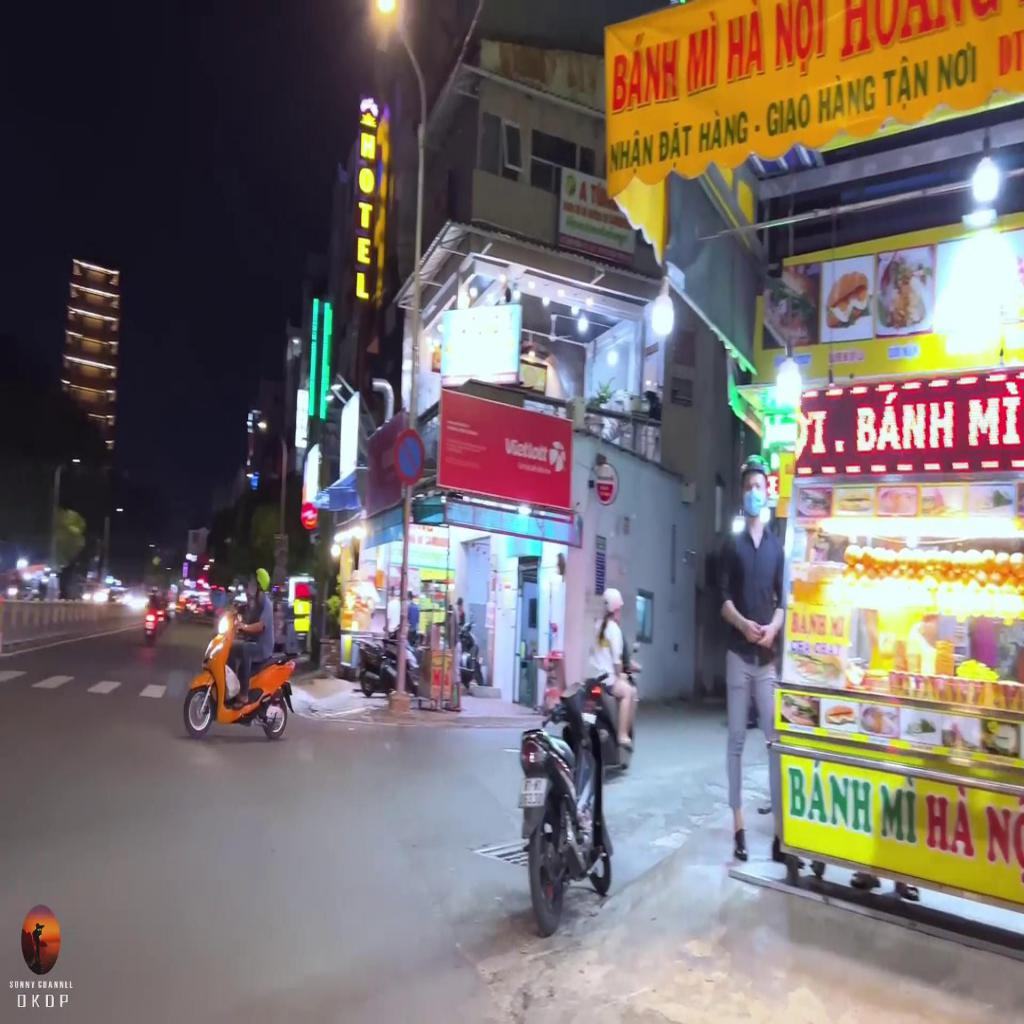cam_do_xe: (394, 428, 425, 486)
